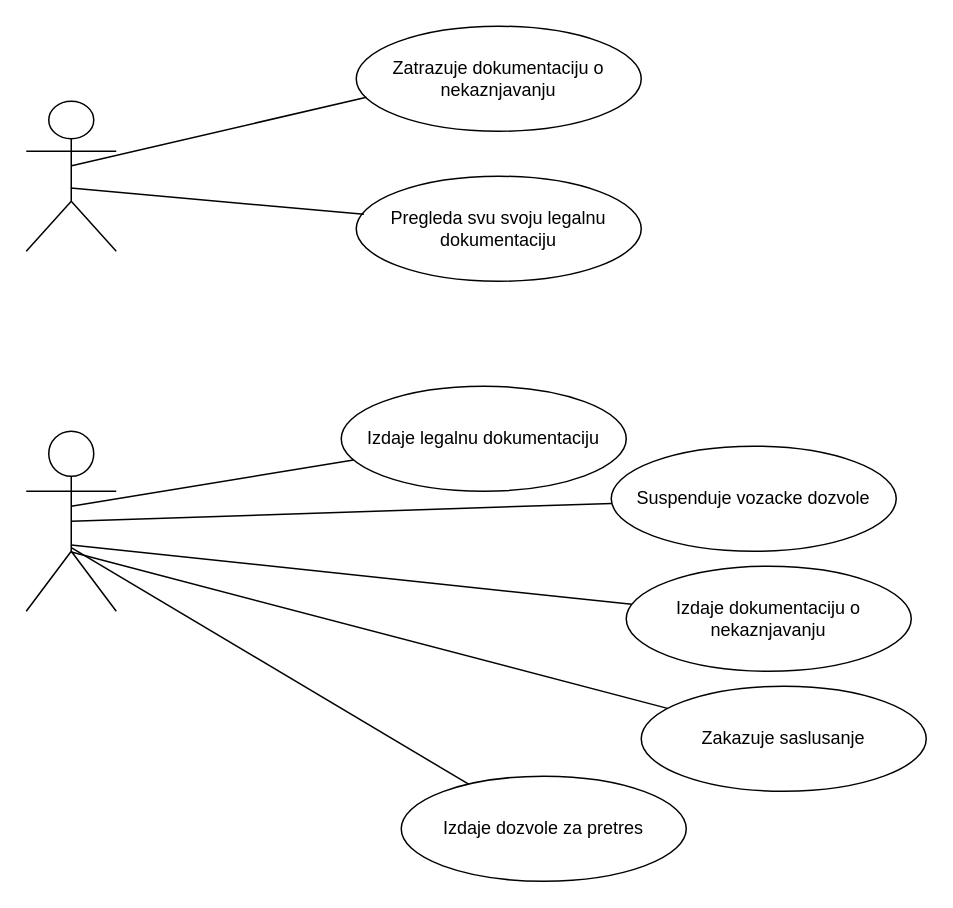
Some shapes in this 953 by 908 pixel diagram are drawn without their labels. Here are the shapes that lost their labels. From the top down, the box of each, then its label:
(25, 100, 116, 251): Korisnik
(25, 430, 116, 611): Sud
